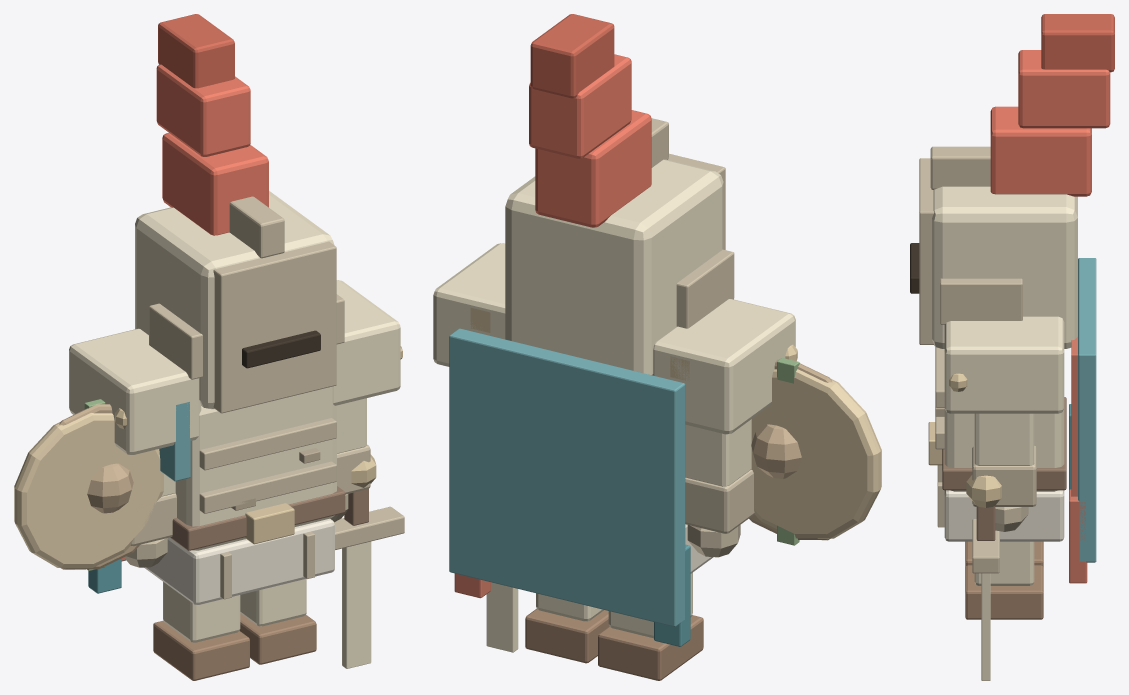
The model's file is knight_v5.glb.
3 renders of one model, left to right at view 1: azimuth 30°, elevation 25°; view 2: azimuth 150°, elevation 25°; view 3: azimuth 270°, elevation 25°, orthographic. The views are drawn at different scales.
Visible parts, largest first — view 1: Helmet_Face, Shield_Disc, Helmet, Pauldron_L, Body_Cuirass, Tunic_Skirt, Plume_Base, Plume_Mid, Pauldron_R, Plume_Top, Sword_Blade, LegL_Boot (+20 smaller); view 2: Cape_Outer, Helmet, Shield_Disc, Pauldron_L, Plume_Base, Plume_Mid, Plume_Top, Pauldron_R, LegL_Boot, ArmL_Upper, ArmL_Cuff, LegR_Boot (+9 smaller); view 3: Helmet, Pauldron_R, Plume_Base, Plume_Mid, Cape_Outer, Plume_Top, Tunic_Skirt, Helmet_Cheek_R, Body_Cuirass, ArmR_Upper, LegR_Boot, Helmet_Ridge (+17 smaller).
Part boxes in pixels (<box>): Helmet_Face: <box>213,241,336,413</box>; Shield_Disc: <box>14,413,163,567</box>; Helmet: <box>135,191,334,409</box>; Pauldron_L: <box>69,328,201,454</box>; Body_Cuirass: <box>175,386,336,550</box>; Tunic_Skirt: <box>144,518,334,604</box>; Plume_Base: <box>162,133,268,235</box>; Plume_Mid: <box>156,64,250,156</box>; Pauldron_R: <box>332,280,400,405</box>; Plume_Top: <box>158,14,234,88</box>; Sword_Blade: <box>342,541,371,668</box>; LegL_Boot: <box>153,620,249,680</box>; Cape_Outer: <box>449,328,685,626</box>; Helmet: <box>505,159,723,375</box>; Shield_Disc: <box>751,369,881,538</box>; Pauldron_L: <box>652,299,795,434</box>; Plume_Base: <box>535,110,651,227</box>; Plume_Mid: <box>529,54,631,158</box>; Plume_Top: <box>530,14,614,98</box>; Pauldron_R: <box>433,243,505,366</box>; LegL_Boot: <box>598,615,703,680</box>; ArmL_Upper: <box>685,419,751,486</box>; ArmL_Cuff: <box>685,469,754,533</box>; LegR_Boot: <box>525,609,608,663</box>; Helmet: <box>932,186,1077,348</box>; Pauldron_R: <box>944,316,1064,413</box>; Plume_Base: <box>990,106,1091,196</box>; Plume_Mid: <box>1018,50,1110,128</box>; Cape_Outer: <box>1078,258,1096,562</box>; Plume_Top: <box>1041,14,1114,72</box>; Tunic_Skirt: <box>944,490,1064,541</box>; Helmet_Cheek_R: <box>940,278,1022,324</box>; Body_Cuirass: <box>944,408,1064,491</box>; ArmR_Upper: <box>974,413,1034,465</box>; LegR_Boot: <box>965,565,1043,619</box>; Helmet_Ridge: <box>930,146,990,189</box>.
Bounding box in the file's own units: 0.9255 × 1.44 × 0.445.
